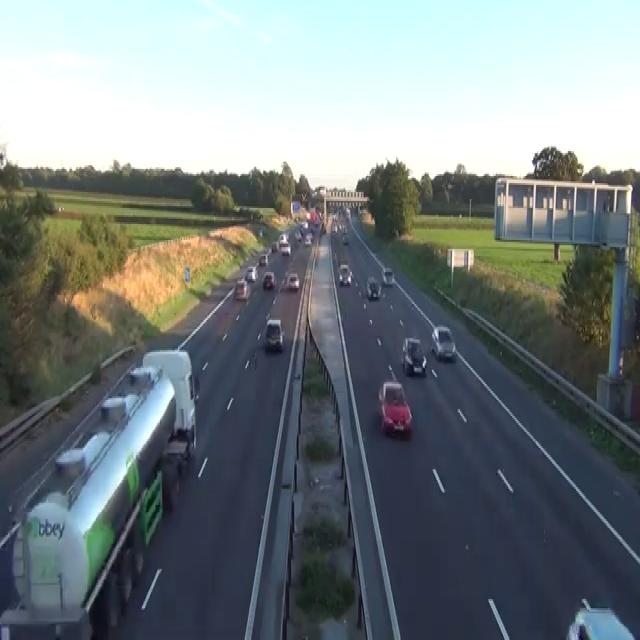Car: (565, 598, 636, 638), (54, 431, 111, 476), (378, 380, 412, 436), (100, 391, 140, 423), (400, 336, 427, 375), (431, 323, 456, 361), (264, 318, 284, 350), (366, 276, 381, 300), (233, 278, 249, 300), (338, 263, 352, 286), (262, 270, 275, 290), (381, 266, 394, 284), (288, 272, 299, 290), (245, 265, 257, 281), (281, 242, 291, 256), (258, 252, 268, 265), (278, 233, 288, 245), (319, 222, 326, 235), (299, 221, 308, 231), (271, 240, 278, 252), (294, 229, 301, 240), (342, 233, 349, 243), (304, 235, 311, 245), (318, 210, 323, 218), (259, 228, 262, 236)
Truck: (0, 347, 198, 638), (141, 348, 199, 462)
